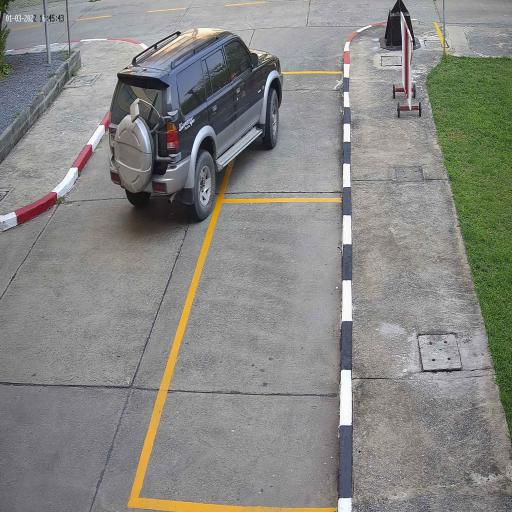car: (108, 24, 286, 224)
